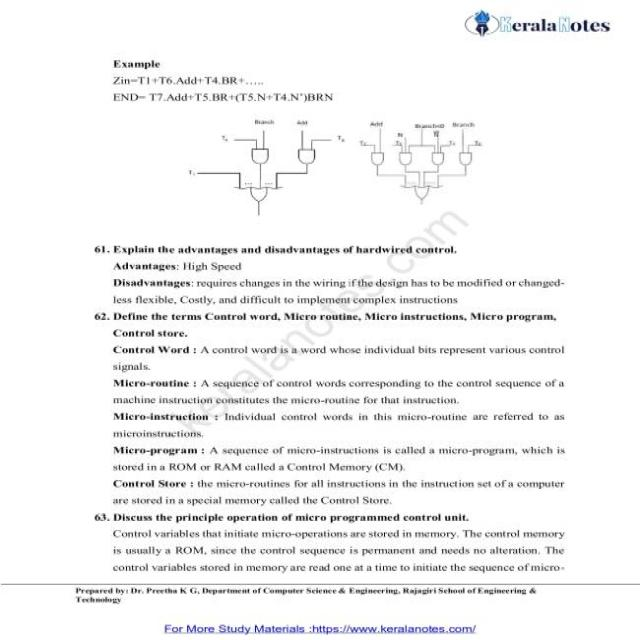Figure Detection - v3 Dataset Version2: (174, 109, 515, 226)
